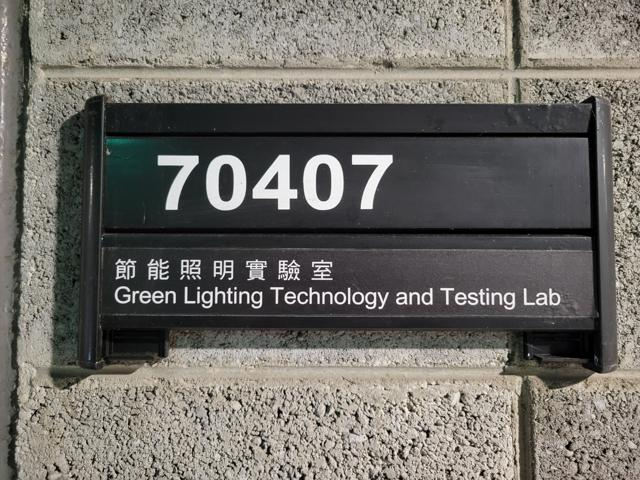doorplate: (70, 89, 623, 383)
